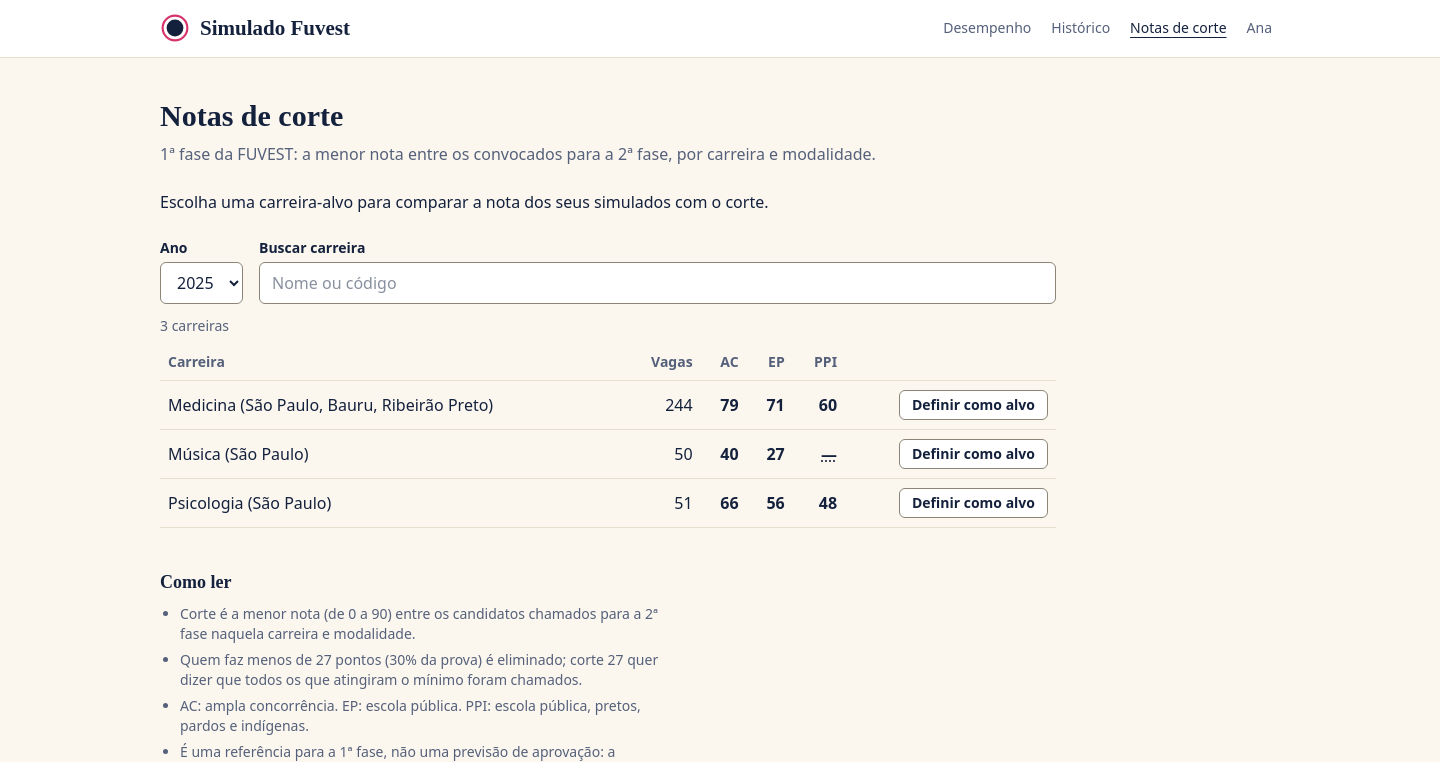
it: Página de notas de corte (UT-057) › busca pelo nome sem acento e pelo código, com a contagem
This screenshot has width=1440, height=762.
Check: the text "3 carreiras" is shown, box [160, 316, 229, 335]
Step 1. Type "musica" into the search field labelled "Buscar carreira" → (658, 283), box [259, 262, 1056, 304]
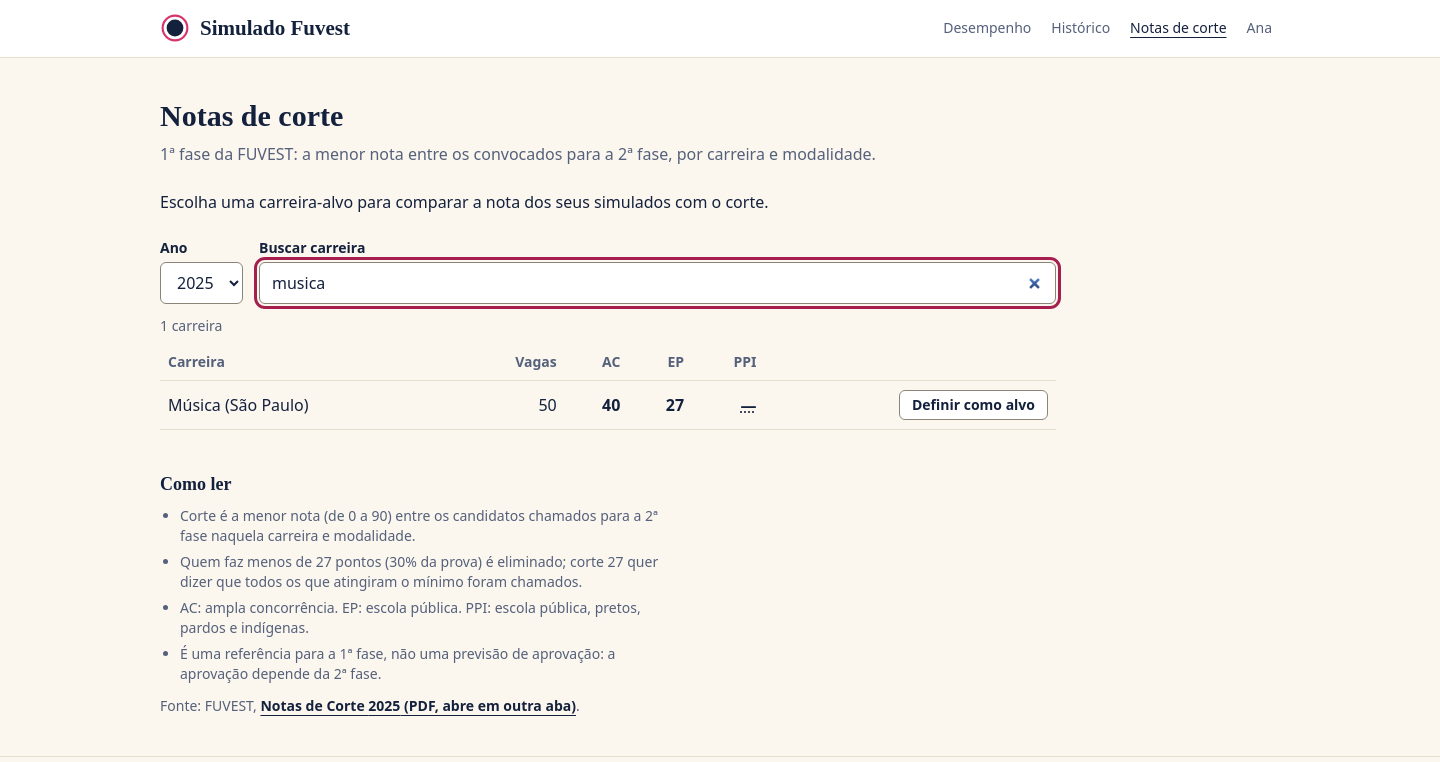
Check: the text "1 carreira" is shown, box [160, 316, 222, 335]
Step 2. Replace the text in the search field labelled "Buscar carreira" with "odontologia" → (658, 283), box [259, 262, 1056, 304]
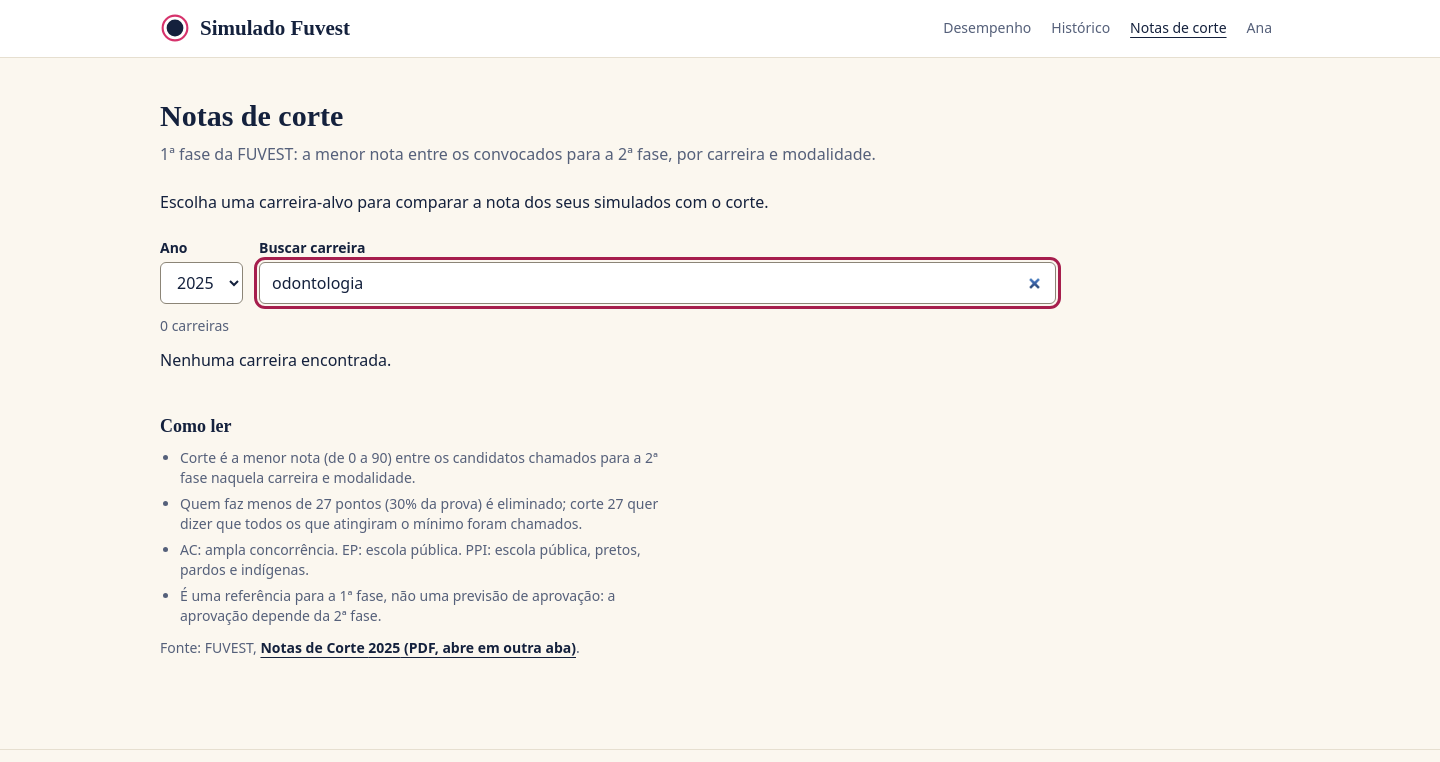
Check: the text "Nenhuma carreira encontrada." is shown, box [160, 349, 391, 371]
